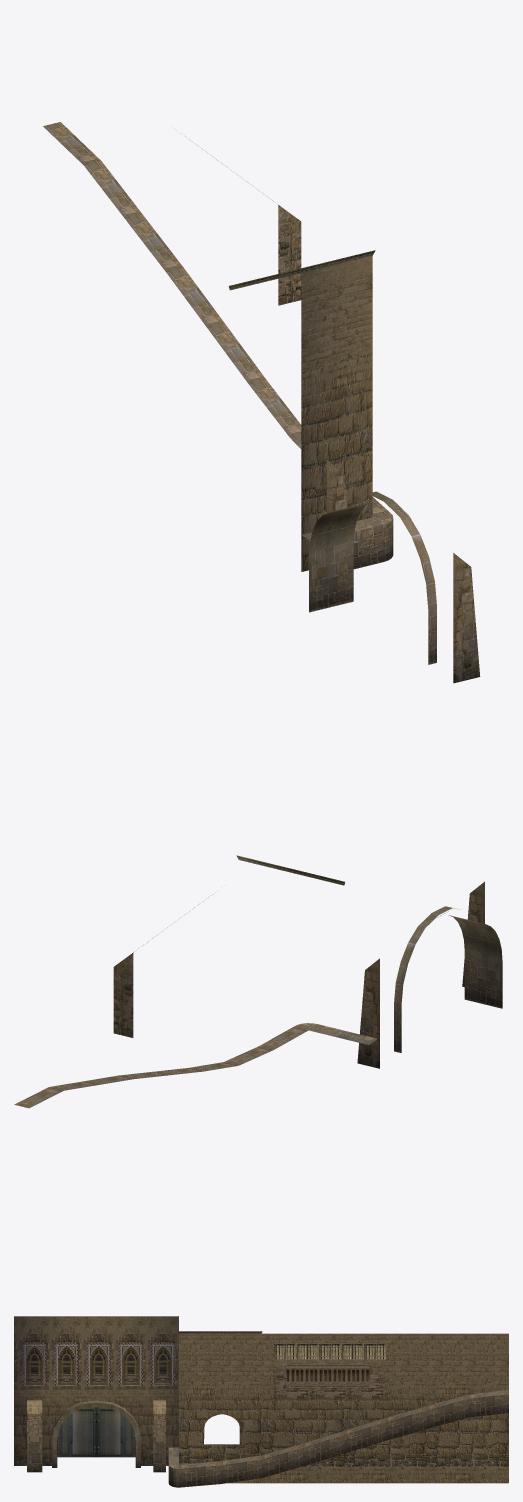
The model's file is M7Z4_FortWall5.glb.
The picture shows the model from 3 angles, top to bottom: view 1: azimuth 30°, elevation 25°; view 2: azimuth 150°, elevation 25°; view 3: azimuth 270°, elevation 25°; orthographic projection. The views are drawn at different scales.
Parts seen in each view (by area): view 1: M7Z4_FORTWALL5; view 2: M7Z4_FORTWALL5; view 3: M7Z4_FORTWALL5.
Part boxes in pixels (x1,y1,x2,y2): M7Z4_FORTWALL5: (43,122,480,683); M7Z4_FORTWALL5: (14,855,502,1108); M7Z4_FORTWALL5: (14,1316,508,1487).
Bounding box in the file's own units: 9.44 × 16.32 × 48.
Materials: 9 (9 with a texture image).
